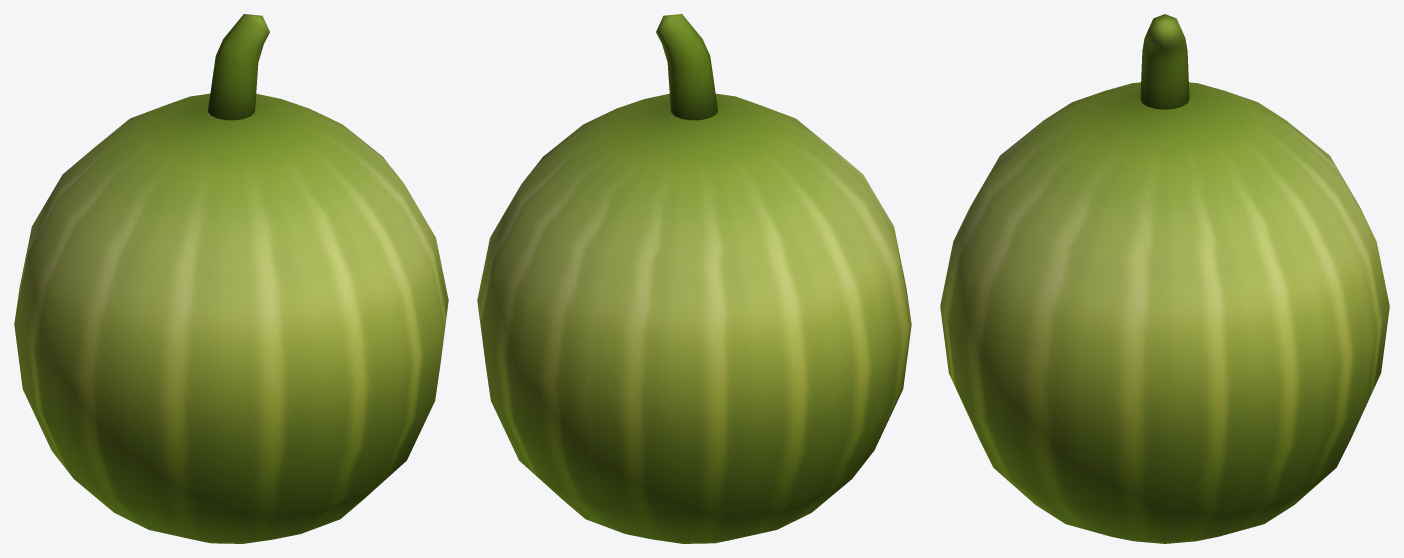
Rendered from Gooseberry_Green.fbx.
The picture shows the model from 3 angles, left to right: view 1: azimuth 30°, elevation 25°; view 2: azimuth 150°, elevation 25°; view 3: azimuth 270°, elevation 25°; orthographic projection. The views are drawn at different scales.
Parts seen in each view (by area): view 1: Gooseberry_Green; view 2: Gooseberry_Green; view 3: Gooseberry_Green.
Boxes of the visible parts, x1,y1,x2,y2 form: Gooseberry_Green: (14,14,448,543); Gooseberry_Green: (477,14,911,543); Gooseberry_Green: (940,14,1389,543).
Size of the model in its own units: 13.85 by 17.61 by 13.85.
